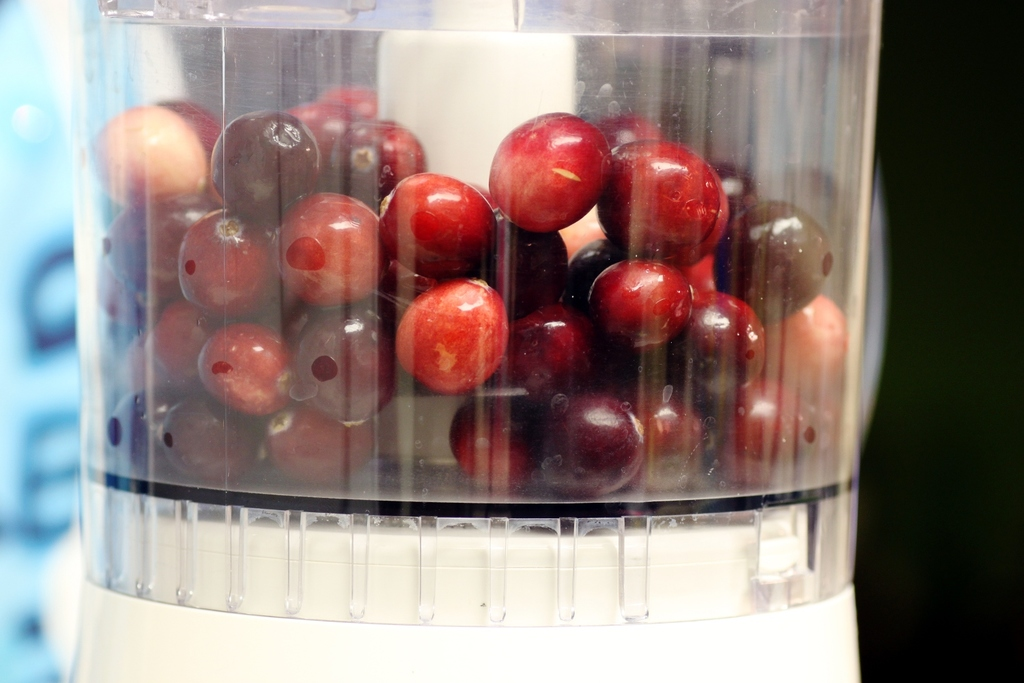Apple: (388, 267, 509, 395)
